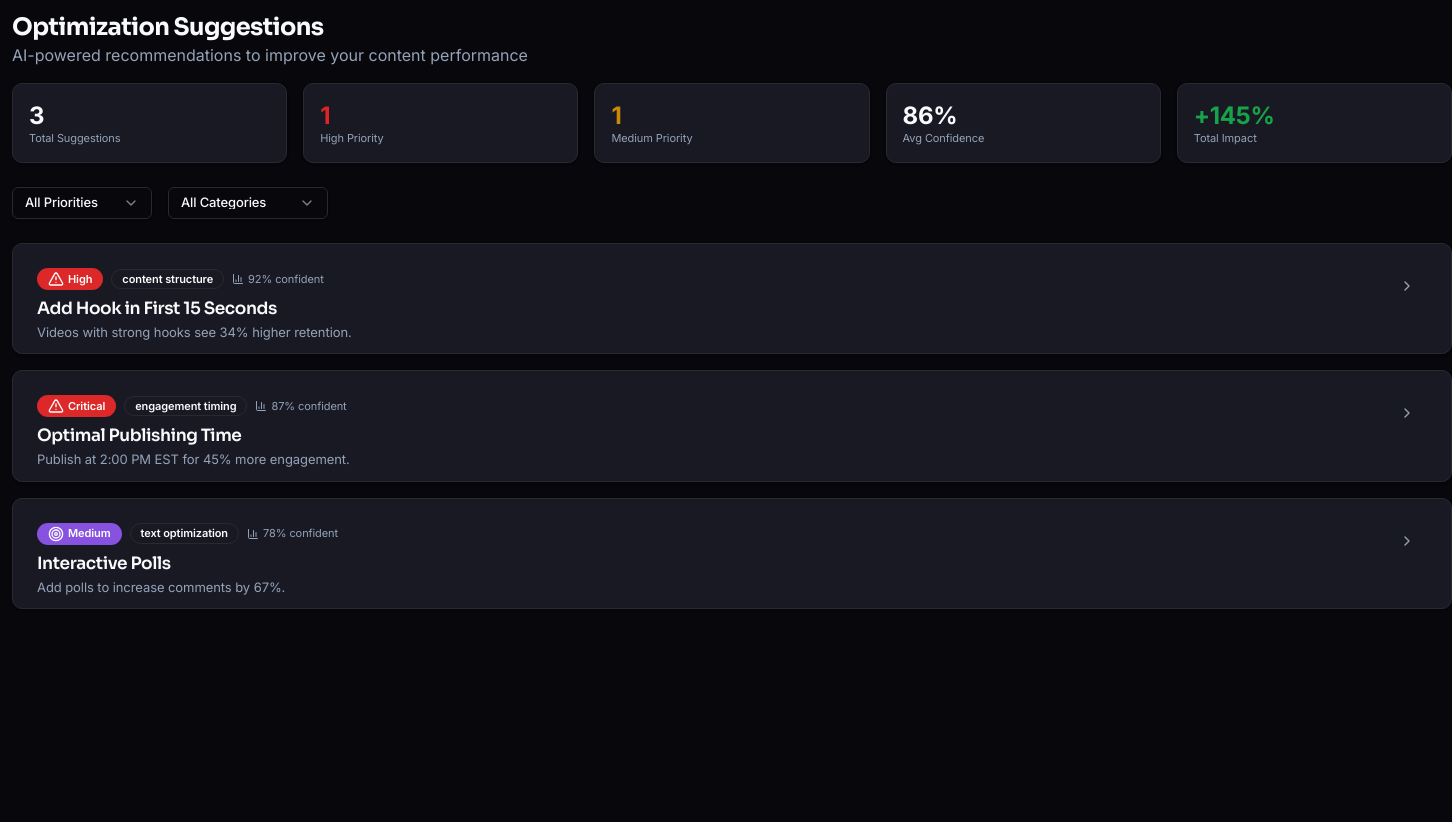
Scenario: OptimizationSuggestionPanel › User Interactions › expands suggestion card when clicked
Click the button without text in the row of "Add Hook in First 15 Seconds" at (1407, 286), box [1387,268,1427,304]
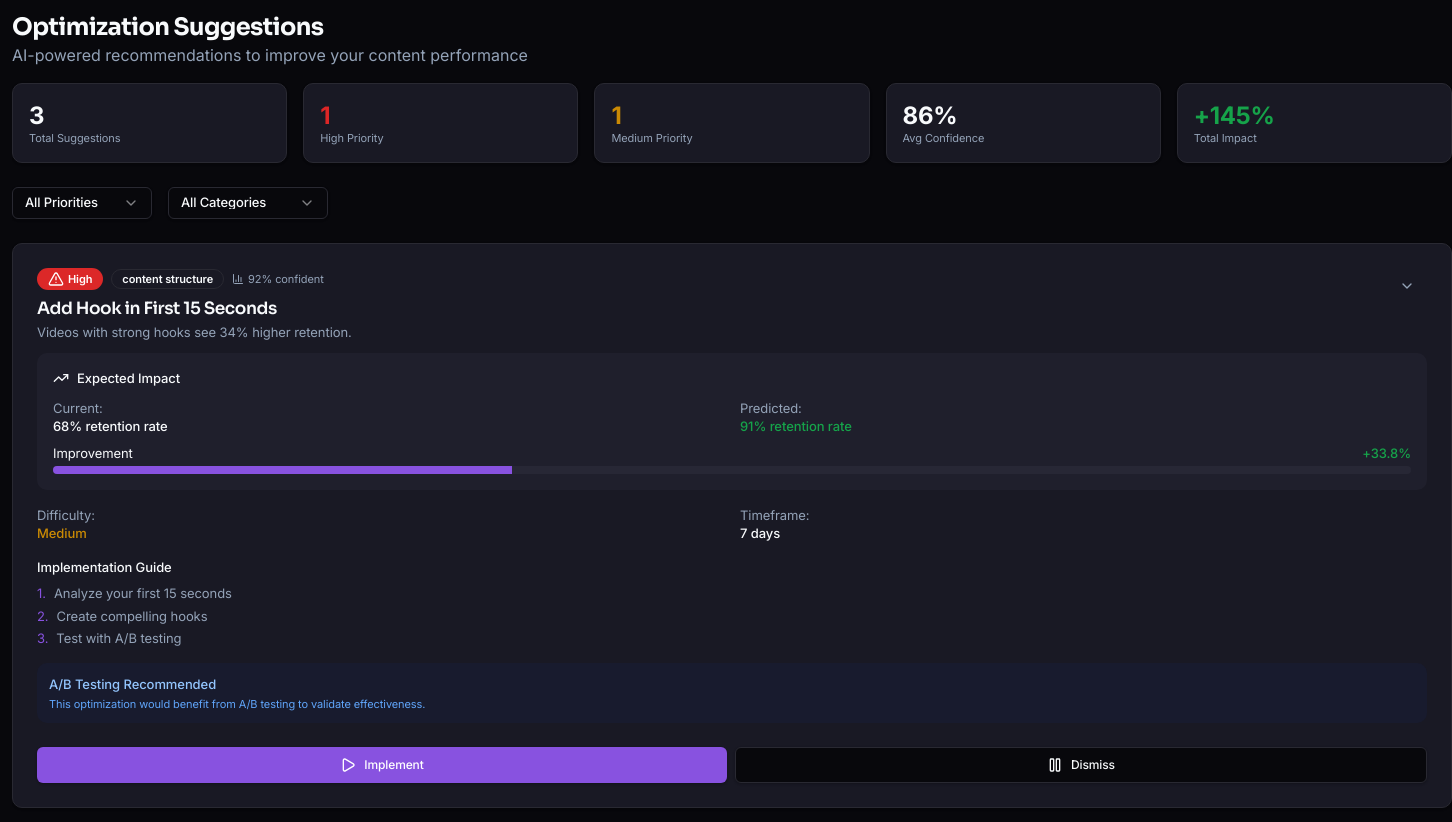
Now the heading "Expected Impact" is shown, box [53,370,180,386]
Now the heading "Implementation Guide" is shown, box [37,559,172,575]
